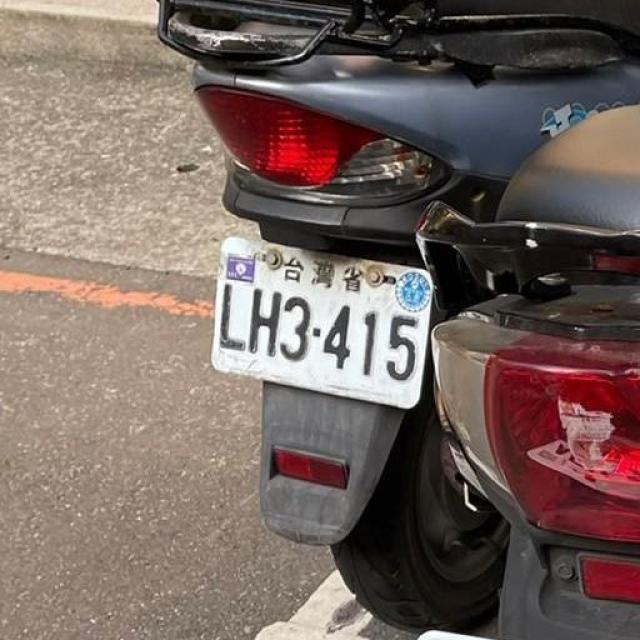W: (198, 222, 442, 420)
